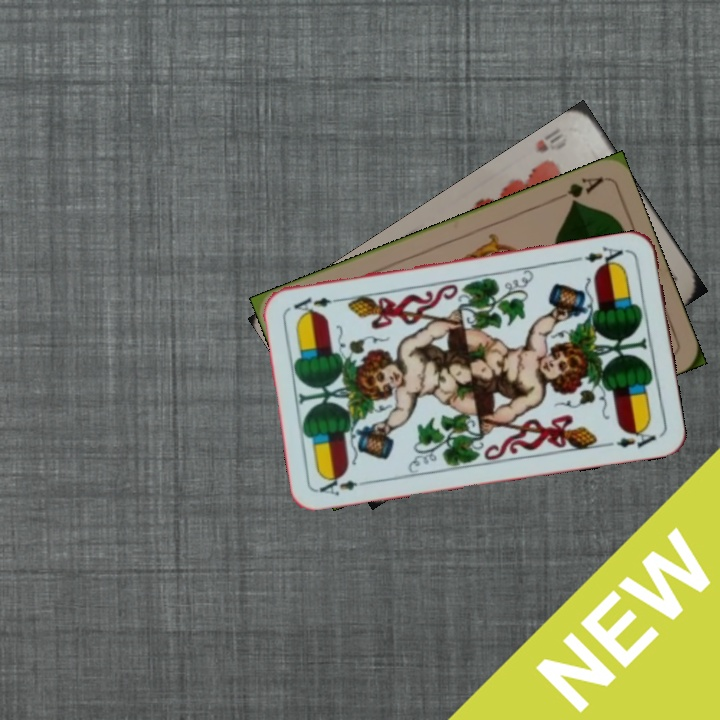EA: (572, 242, 631, 271), (315, 471, 373, 499)
GA: (562, 172, 606, 207)
H10: (531, 129, 571, 156)
